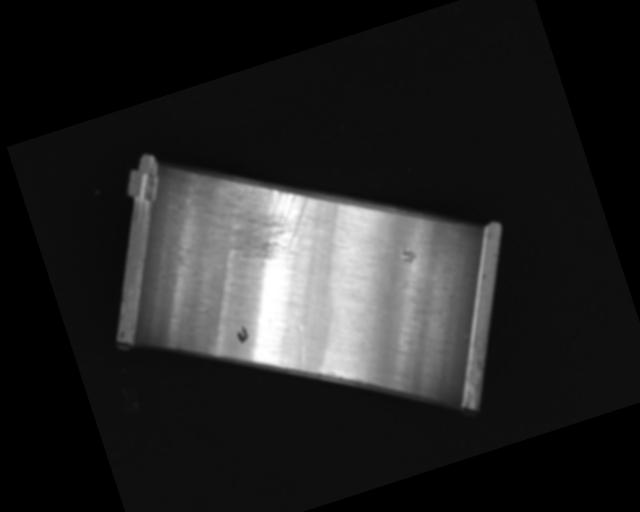blot: (233, 324, 250, 346)
bruise: (397, 243, 418, 265)
nick: (290, 323, 315, 368)
scratch: (192, 143, 323, 280)
